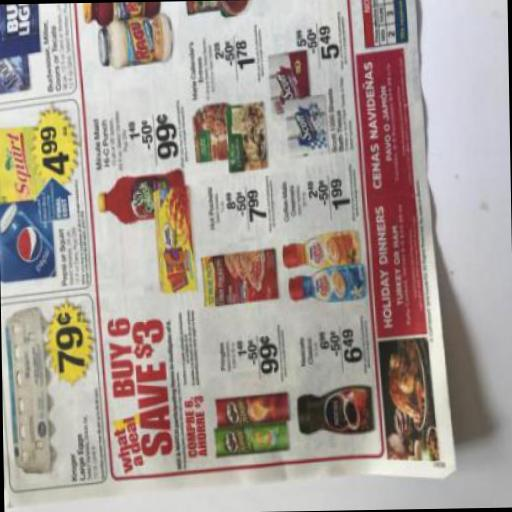paper: (0, 0, 457, 501)
